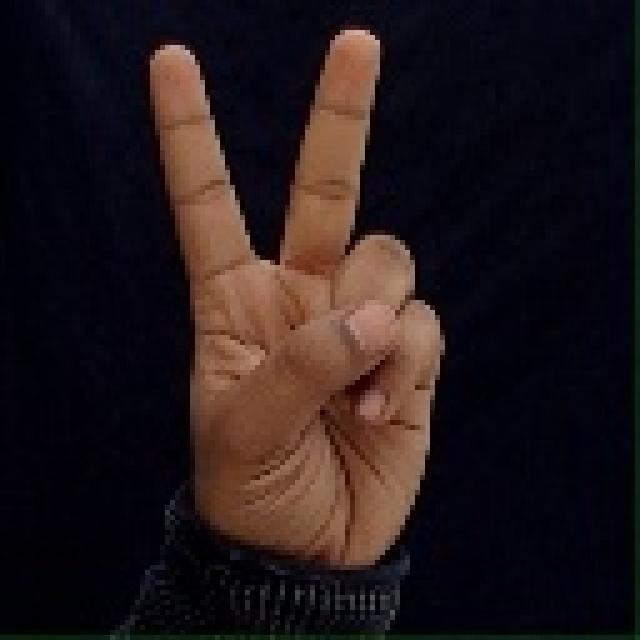Numeric-2: (136, 20, 447, 583)
